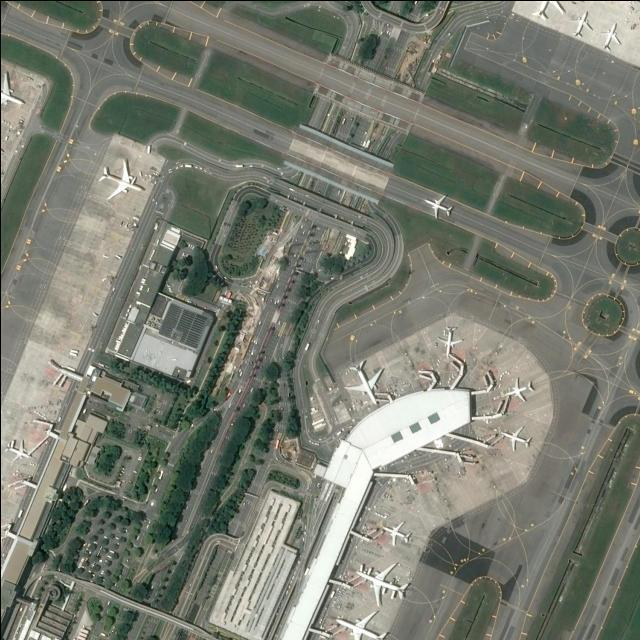Aircraft: (356, 563, 410, 607), (98, 160, 145, 200), (345, 360, 383, 406), (336, 611, 389, 640), (0, 72, 26, 112), (423, 193, 453, 219), (437, 326, 461, 358), (503, 378, 534, 402), (384, 521, 412, 547), (502, 427, 532, 451), (5, 440, 32, 462)
